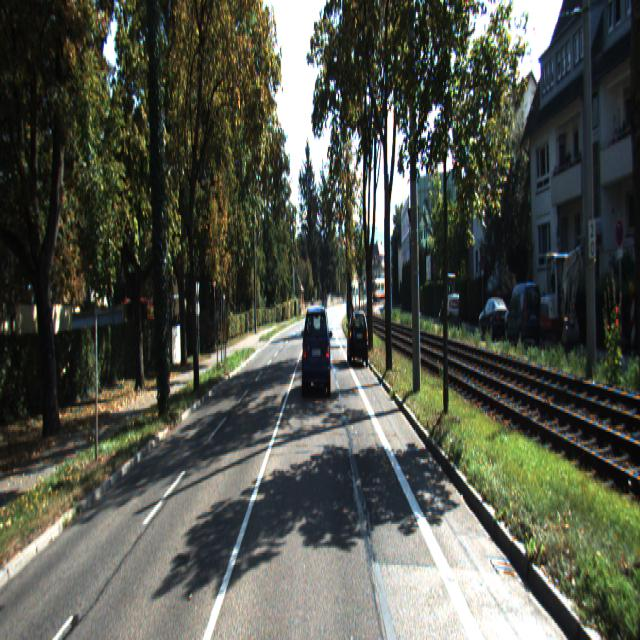Car: (540, 247, 571, 349), (302, 302, 332, 399), (505, 278, 544, 347), (479, 296, 513, 342), (347, 309, 368, 367), (446, 272, 459, 324)
